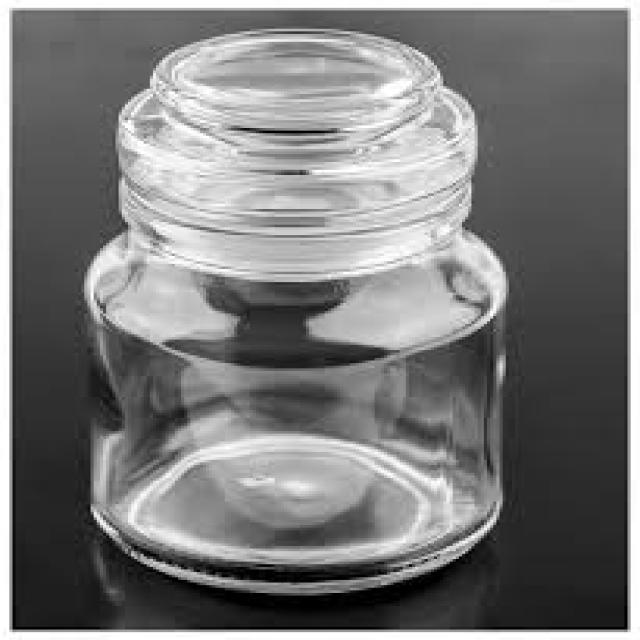glass: (81, 26, 503, 593)
